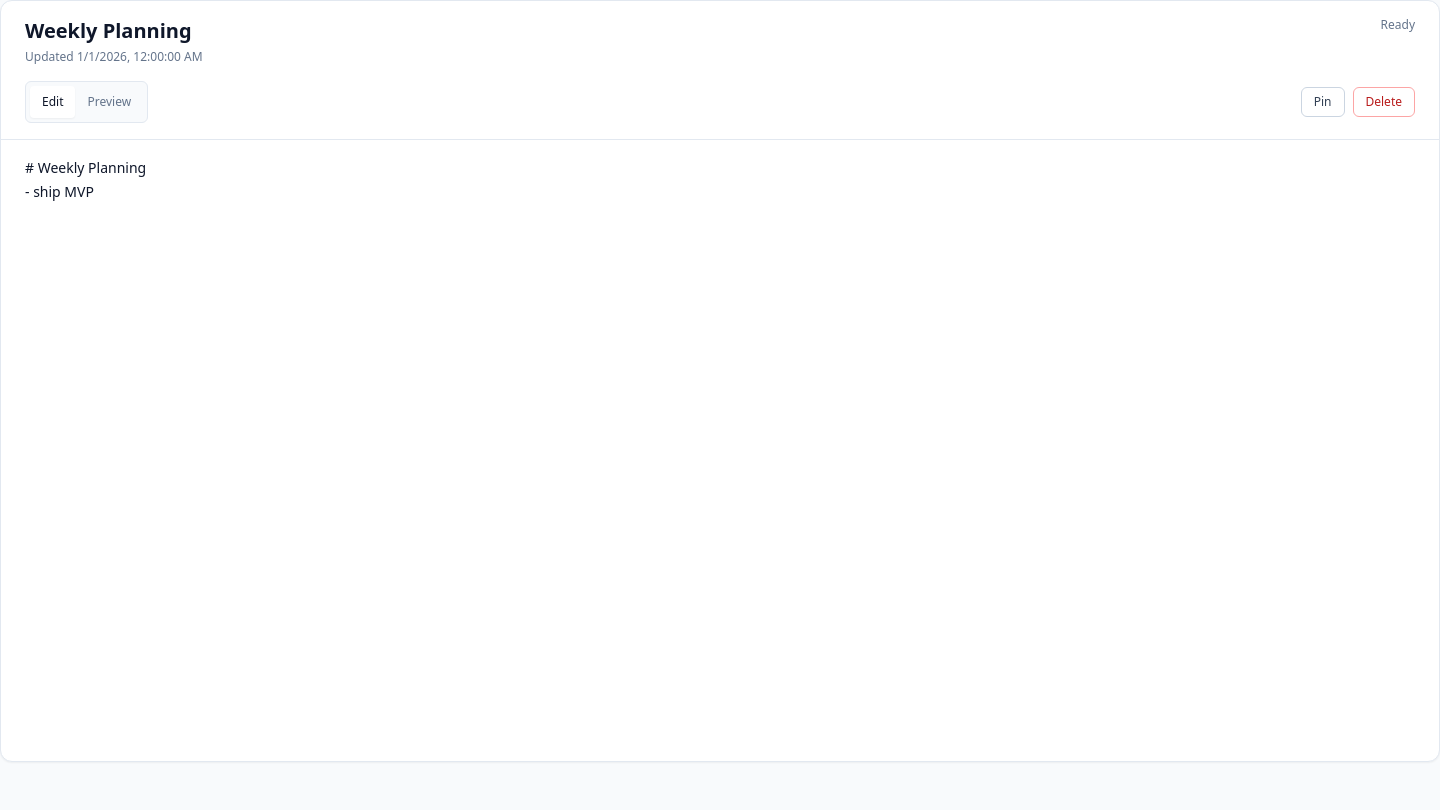
NoteEditor › renders markdown preview when preview mode is selected
This screenshot has width=1440, height=810.
Click the button "Preview": point(109, 102) [76,86,143,118]
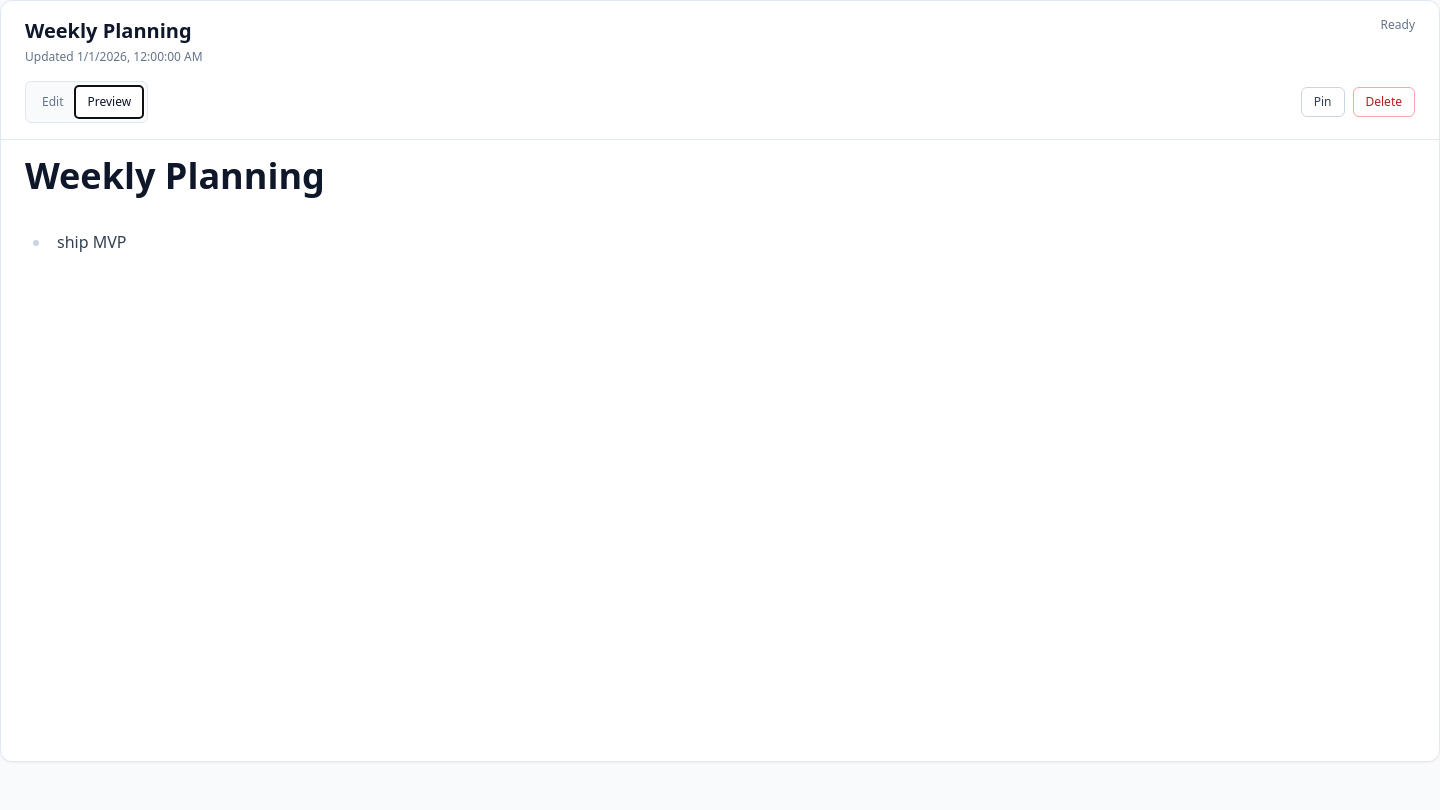
Result: the 2nd heading "Weekly Planning" is shown at [25,156,325,200]
Result: the list item "ship MVP" is shown at [57,231,126,253]
